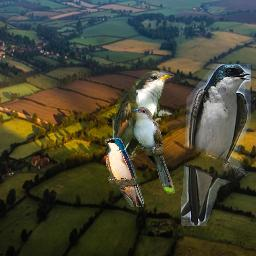Cuckoo: (109, 70, 174, 160), (131, 107, 175, 194)
Swallow: (181, 64, 251, 226), (105, 138, 144, 207)
